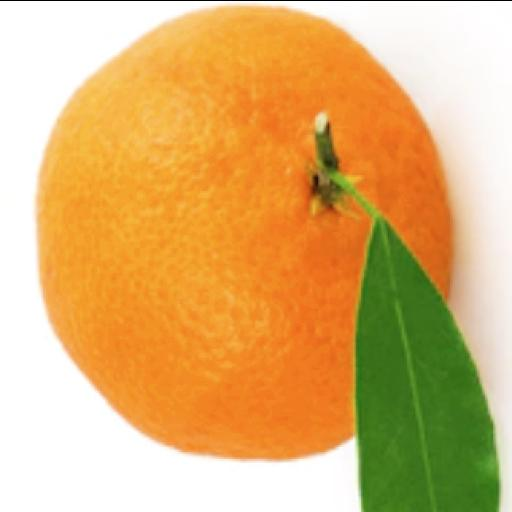orange: (39, 7, 449, 459)
